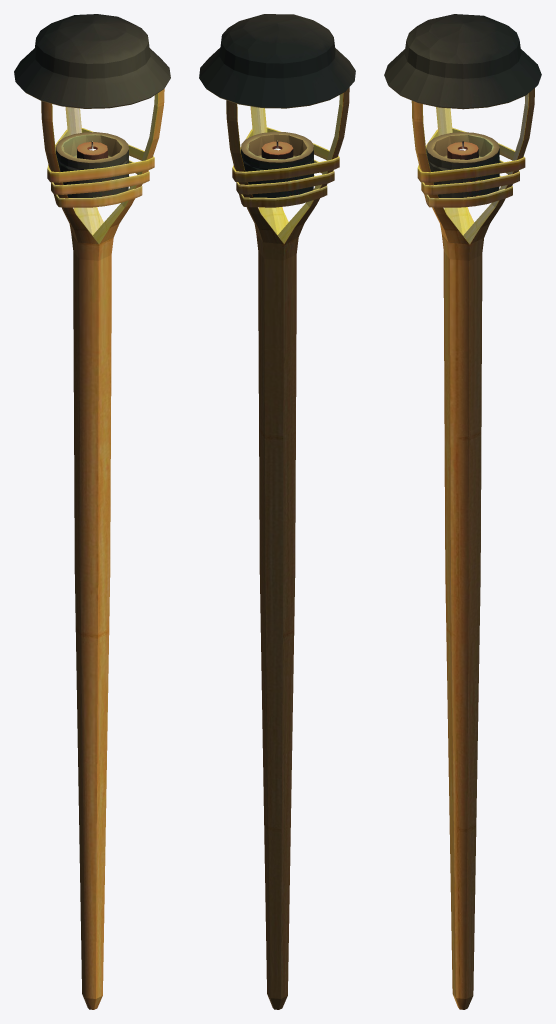
The model's file is singletikitorch.obj.
The picture shows the model from 3 angles, left to right: view 1: azimuth 30°, elevation 25°; view 2: azimuth 150°, elevation 25°; view 3: azimuth 270°, elevation 25°; orthographic projection.
Parts seen in each view (by area): view 1: tikitorches.001; view 2: tikitorches.001; view 3: tikitorches.001.
Part boxes in pixels (<box>): tikitorches.001: <box>14,14,170,1009</box>; tikitorches.001: <box>199,14,355,1009</box>; tikitorches.001: <box>384,14,541,1009</box>.
Bounding box in the file's own units: 0.2824 × 1.95 × 0.2824.
1 material, 1 textured.
